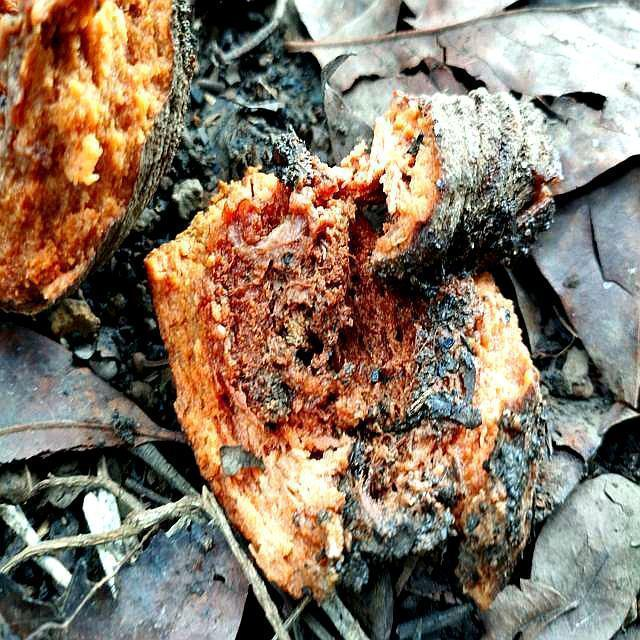Biodegradable: (163, 103, 531, 561), (1, 1, 223, 309)
